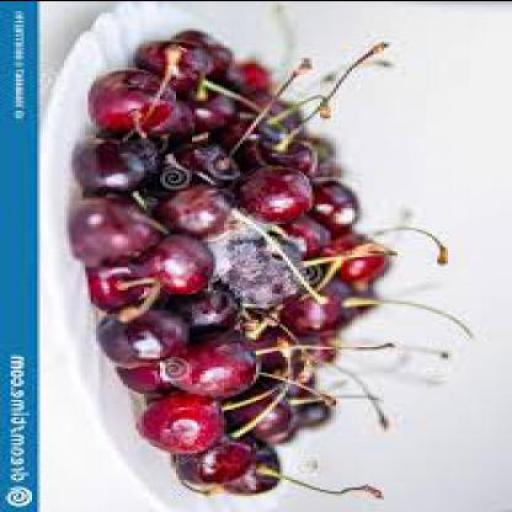biodegradable: (210, 224, 304, 304), (74, 198, 168, 268), (166, 332, 264, 399), (102, 311, 198, 367), (141, 396, 229, 456), (93, 71, 179, 131), (157, 186, 243, 244), (240, 166, 318, 225), (78, 137, 160, 193), (142, 234, 216, 295), (288, 277, 362, 338), (227, 384, 299, 444), (178, 438, 258, 492), (118, 100, 198, 152), (166, 283, 243, 336), (224, 134, 320, 176), (139, 43, 213, 96), (162, 142, 242, 190), (90, 262, 170, 310), (320, 236, 394, 283), (224, 442, 286, 495), (174, 32, 235, 78), (224, 114, 288, 156), (317, 182, 362, 233), (286, 216, 336, 258), (261, 362, 322, 396), (190, 94, 238, 136), (117, 365, 178, 397), (232, 62, 274, 100), (262, 100, 304, 135), (262, 328, 298, 366), (317, 138, 344, 182), (296, 396, 330, 426), (299, 338, 339, 361), (360, 287, 382, 312)
